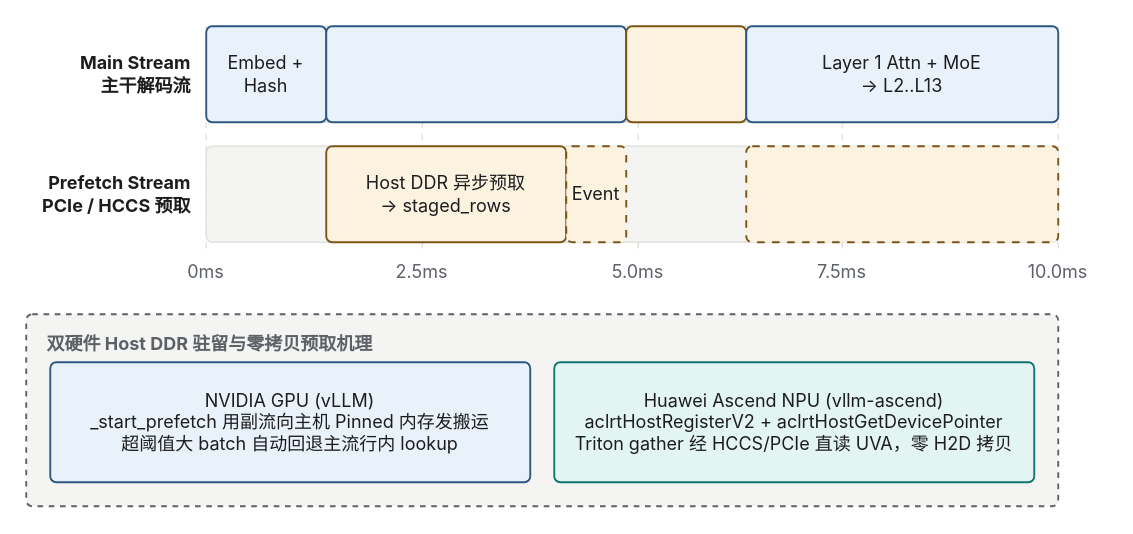
This 1133x534 diagram has some shape labels left out. The shapes that lost their labels are listed below. From the top down, each one's centre as x and y in pixels, then its label:
At (476,74): "Layer 0 全层计算 (mHC + Attn + MoE)".
At (686,74): "wait + L1 Engram".
At (902,194): "L14 Engram 异步预取 与主机查表预热".
